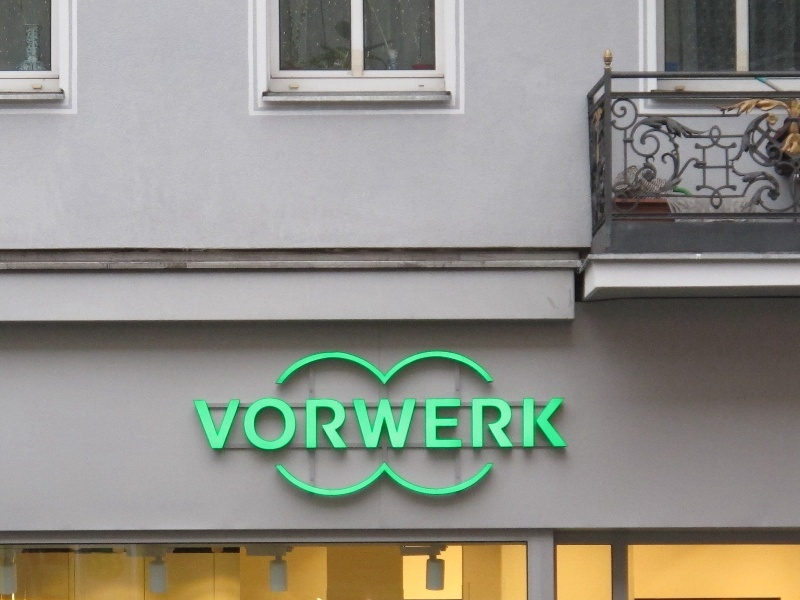text: (209, 399, 224, 450), (225, 399, 240, 450), (241, 399, 256, 450), (257, 399, 272, 450), (273, 399, 288, 450), (289, 399, 304, 450), (305, 399, 320, 450), (321, 399, 336, 450), (337, 399, 352, 450), (353, 399, 368, 450), (369, 399, 384, 450), (385, 399, 400, 450), (401, 399, 416, 450), (417, 399, 432, 450), (433, 399, 448, 450), (449, 399, 464, 450), (465, 399, 480, 450), (481, 399, 496, 450), (497, 399, 512, 450), (513, 399, 528, 450), (529, 399, 544, 450), (545, 399, 560, 450), (194, 399, 208, 450), (561, 399, 568, 450)
